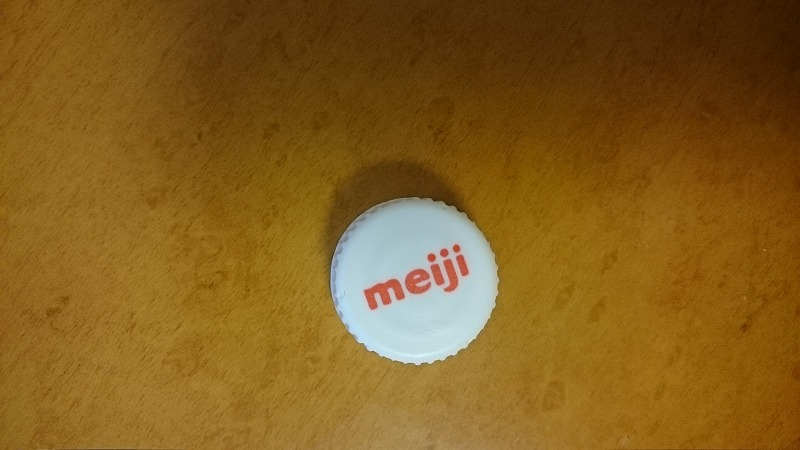B: (327, 193, 507, 369)
